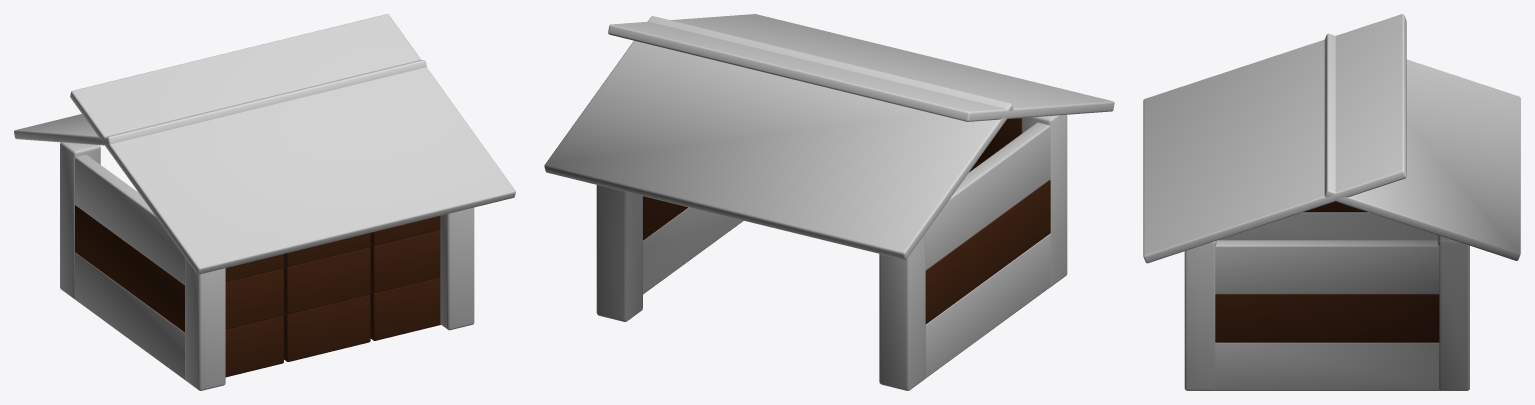
The model's file is abandoned-shed.obj.
The picture shows the model from 3 angles, left to right: view 1: azimuth 30°, elevation 25°; view 2: azimuth 150°, elevation 25°; view 3: azimuth 270°, elevation 25°; orthographic projection. The views are drawn at different scales.
Parts seen in each view (by area): view 1: abandoned-shed; view 2: abandoned-shed; view 3: abandoned-shed.
Boxes of the visible parts, x1=… form: abandoned-shed: x1=14, y1=14, x2=515, y2=390; abandoned-shed: x1=544, y1=14, x2=1114, y2=390; abandoned-shed: x1=1143, y1=14, x2=1520, y2=390.
Size of the model in its own units: 2.35 by 1.61 by 2.38.
